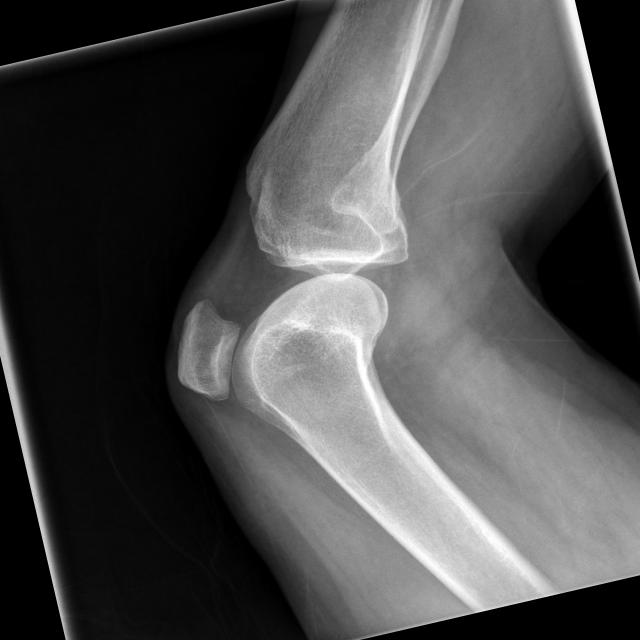Knee: (136, 146, 440, 412)
